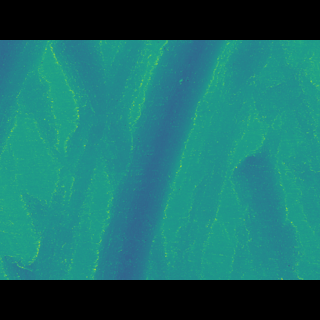Loch: (82, 69, 231, 249), (0, 70, 150, 153), (225, 150, 319, 250)
